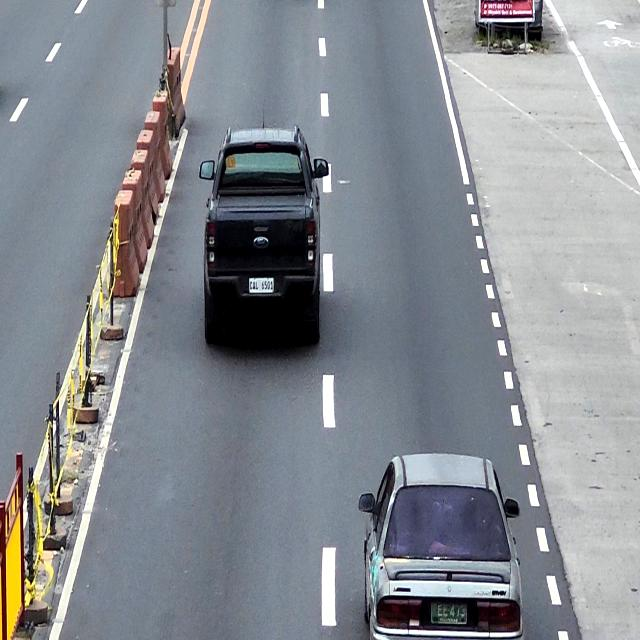Car: (358, 453, 524, 640), (198, 126, 329, 345)
License-Plate: (431, 602, 468, 626), (248, 277, 274, 294)
